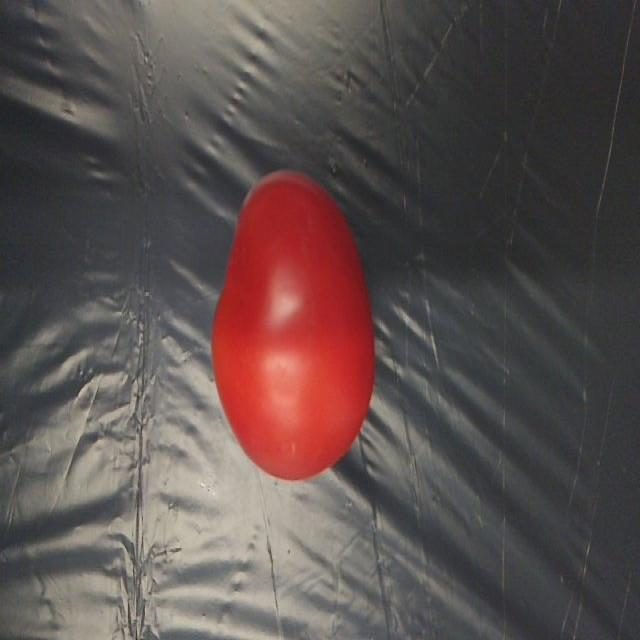kirmizi: (220, 164, 381, 480)
